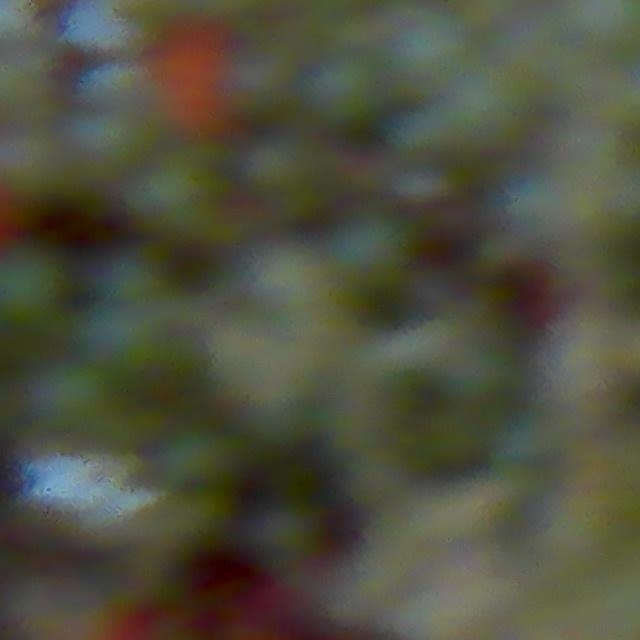SeaGrape: (378, 0, 467, 82), (25, 358, 110, 435), (303, 49, 382, 124), (0, 245, 64, 328), (245, 501, 319, 571), (336, 216, 397, 277)
